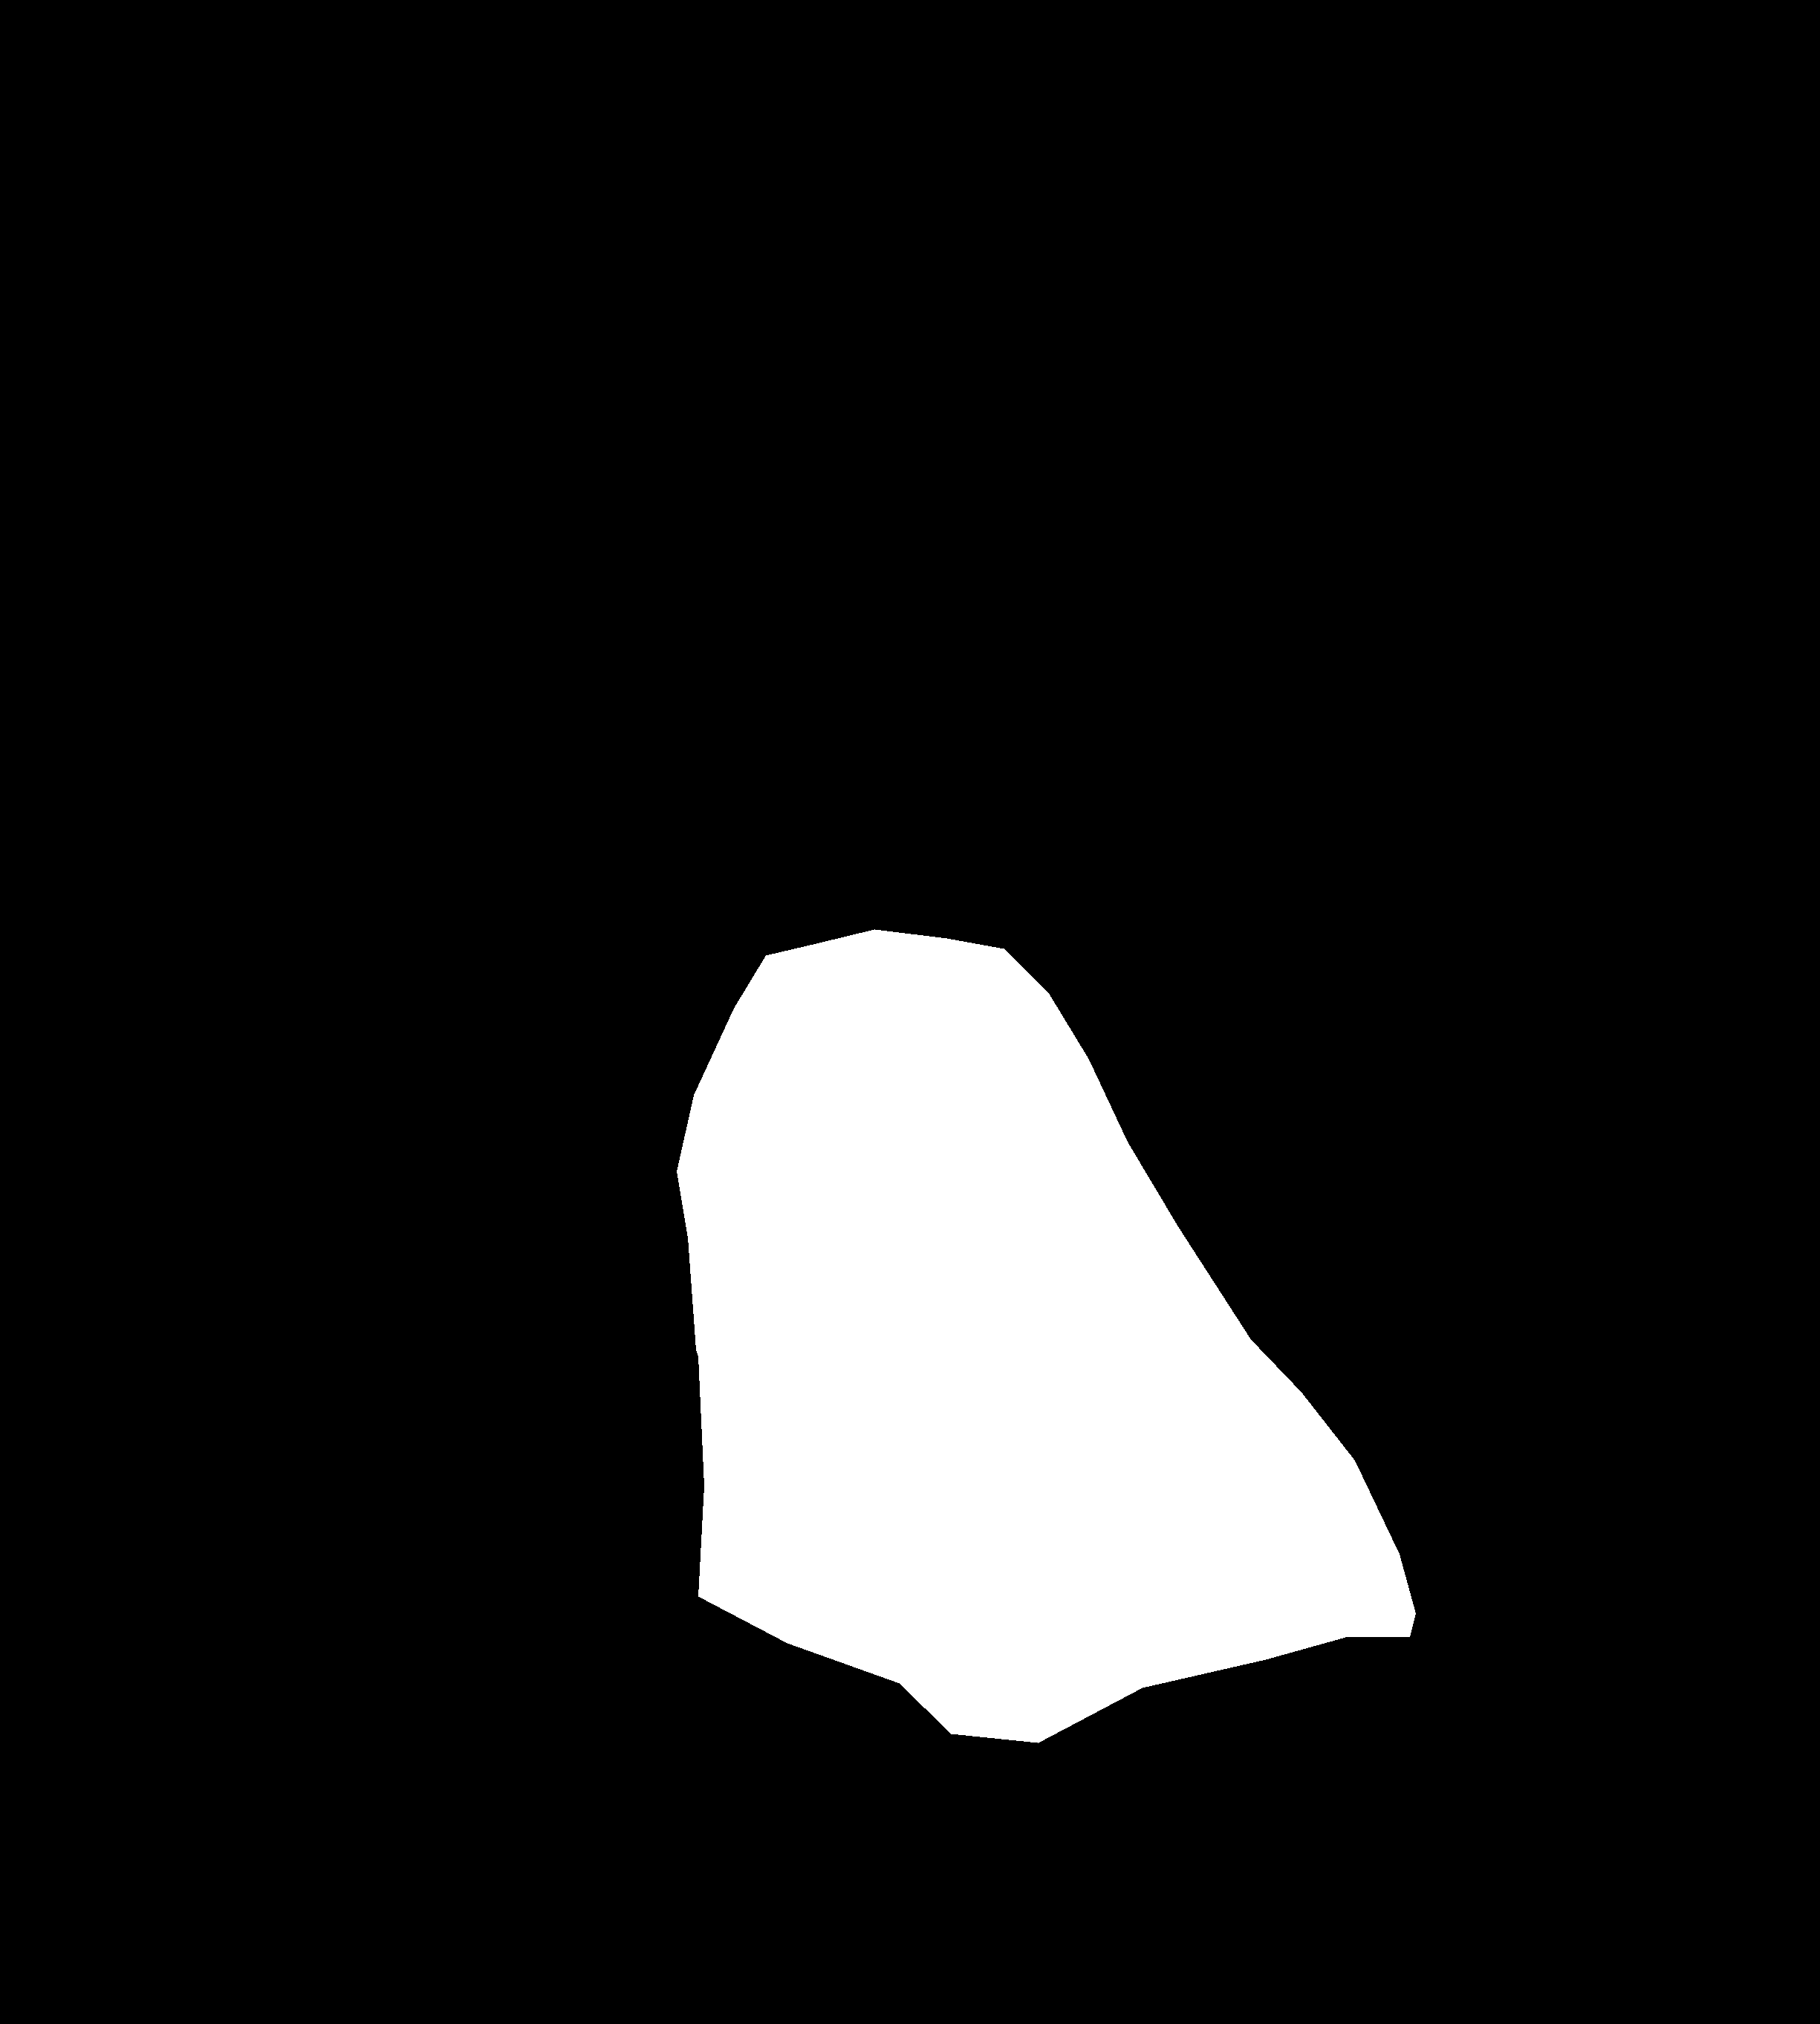heart: (676, 929, 1416, 1743)
left_lung: (77, 351, 703, 1829)
right_lung: (968, 334, 1683, 1847)
